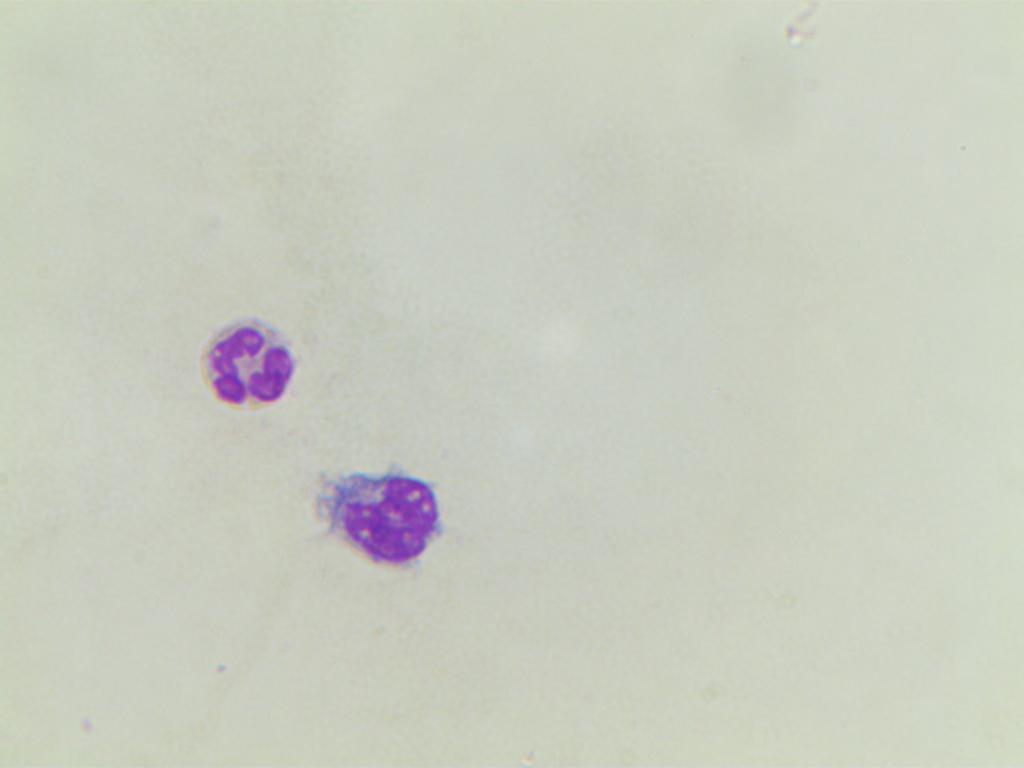lymphocyte: (304, 449, 475, 577)
neutrophil: (176, 310, 304, 436)
